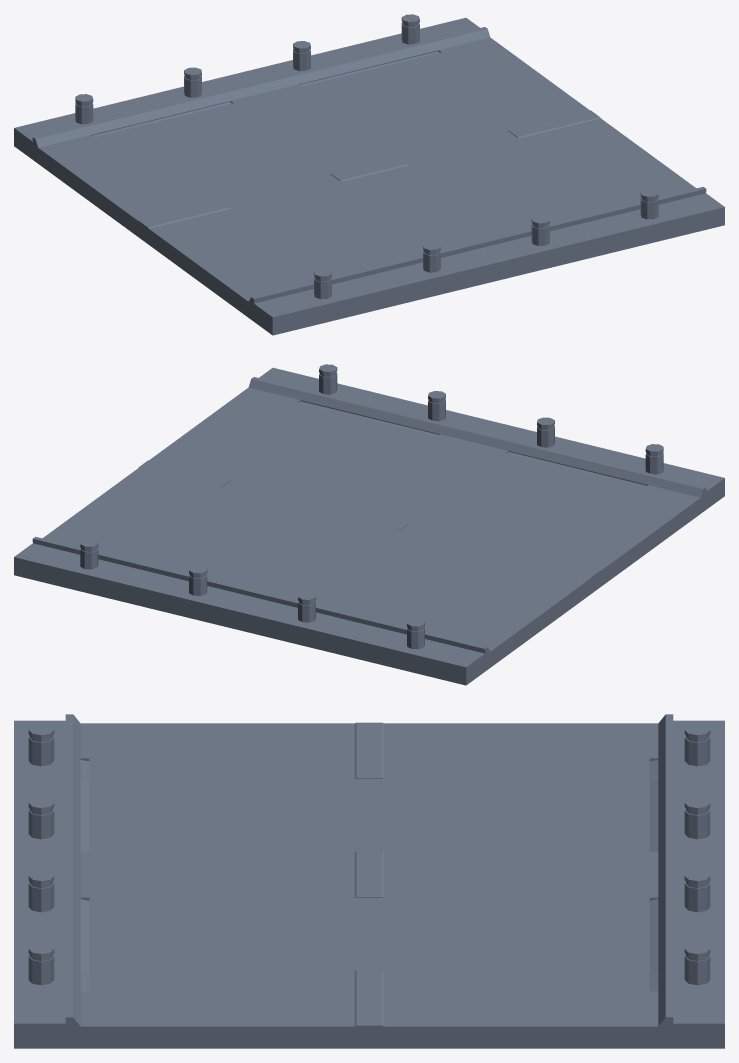
The model's file is single.fbx.
The picture shows the model from 3 angles, top to bottom: view 1: azimuth 30°, elevation 25°; view 2: azimuth 150°, elevation 25°; view 3: azimuth 270°, elevation 25°; orthographic projection. The views are drawn at different scales.
Visible parts, largest first — view 1: single_road_1; view 2: single_road_1; view 3: single_road_1.
Part boxes in pixels (x1,y1,x2,y2): single_road_1: (14,14,724,335); single_road_1: (14,364,724,685); single_road_1: (14,714,724,1048).
Size of the model in its own units: 208 by 17.94 by 206.
